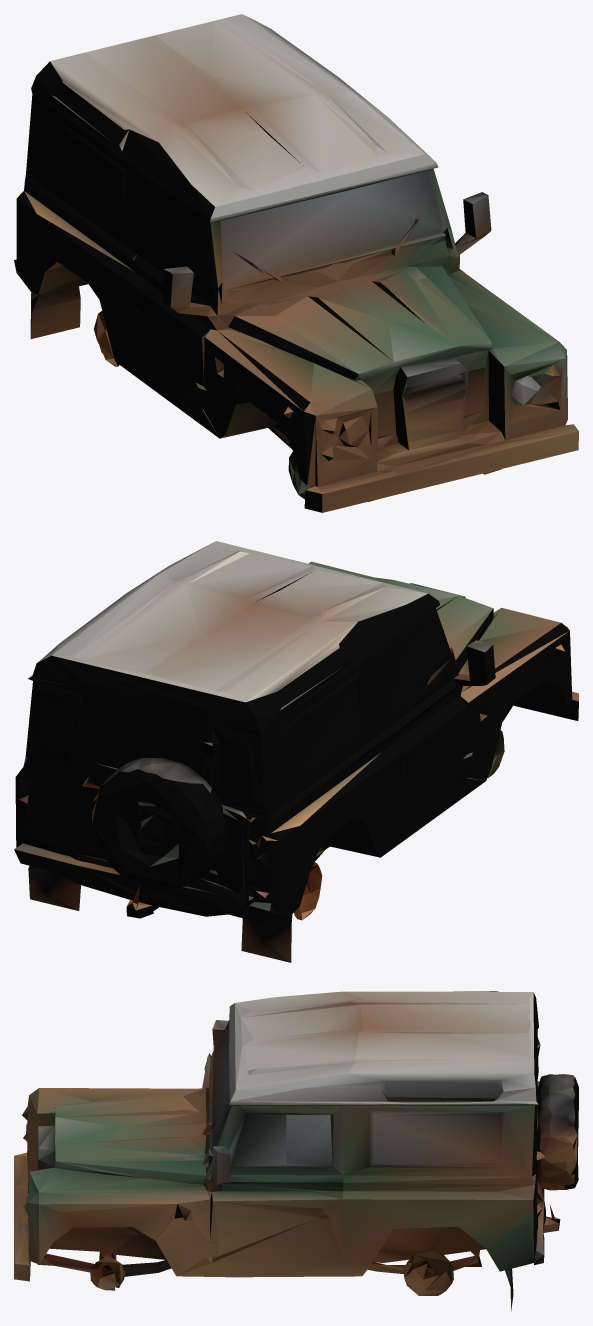
The model's file is land_rover_series3.glb.
3 renders of one model, top to bottom at view 1: azimuth 30°, elevation 25°; view 2: azimuth 150°, elevation 25°; view 3: azimuth 270°, elevation 25°, orthographic. The views are drawn at different scales.
Visible parts, largest first — view 1: Wreck_land_rover_series3; view 2: Wreck_land_rover_series3; view 3: Wreck_land_rover_series3.
Part boxes in pixels (x1,y1,x2,y2): Wreck_land_rover_series3: (14,14,578,512); Wreck_land_rover_series3: (14,541,578,962); Wreck_land_rover_series3: (14,991,578,1311).
Size of the model in its own units: 2.05 by 1.61 by 3.62.
